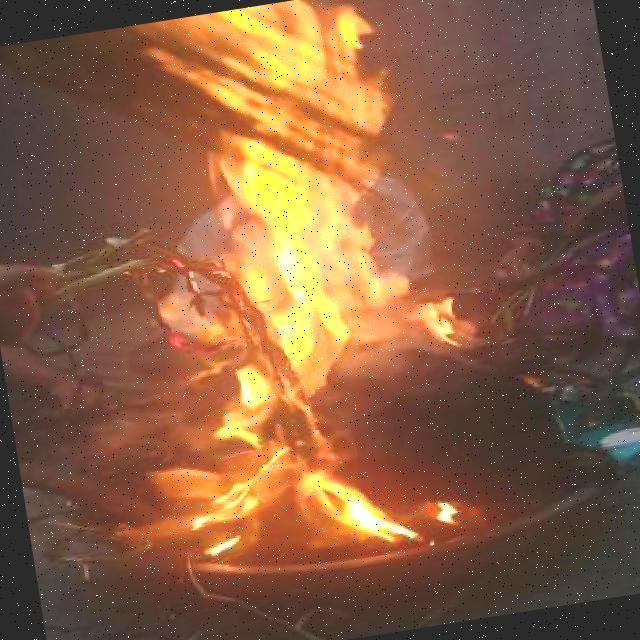Fire: (79, 0, 492, 589)
